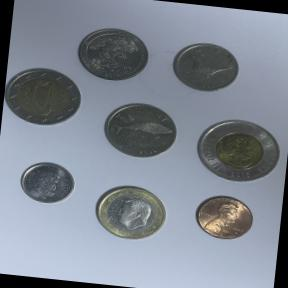coin: (187, 110, 288, 195), (94, 94, 184, 170), (88, 178, 176, 247), (1, 64, 86, 134), (72, 23, 154, 86), (188, 188, 260, 246), (15, 154, 80, 208)
